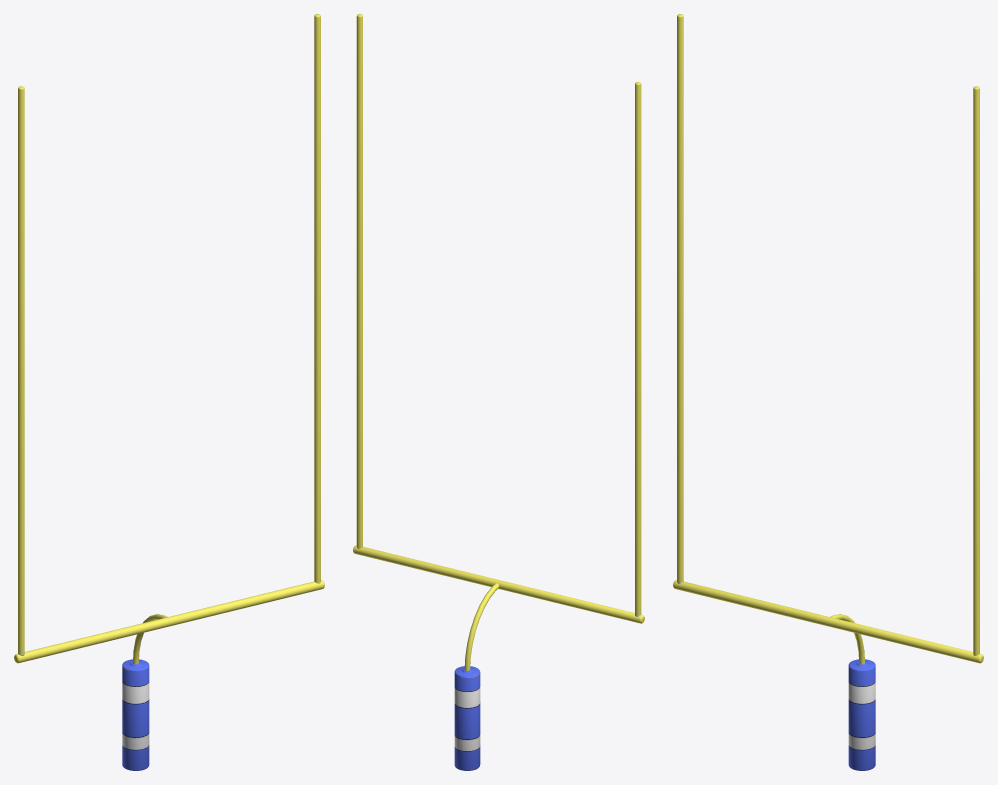
File: GoalPost.fbx
3 renders of one model, left to right at view 1: azimuth 30°, elevation 25°; view 2: azimuth 150°, elevation 25°; view 3: azimuth 330°, elevation 25°, orthographic. The views are drawn at different scales.
Parts seen in each view (by area): view 1: GoalPost; view 2: GoalPost; view 3: GoalPost.
Part boxes in pixels (x1,y1,x2,y2): GoalPost: [14, 14, 324, 770]; GoalPost: [353, 14, 644, 770]; GoalPost: [673, 14, 983, 770].
Size of the model in its own units: 6.53 by 15 by 1.58.
